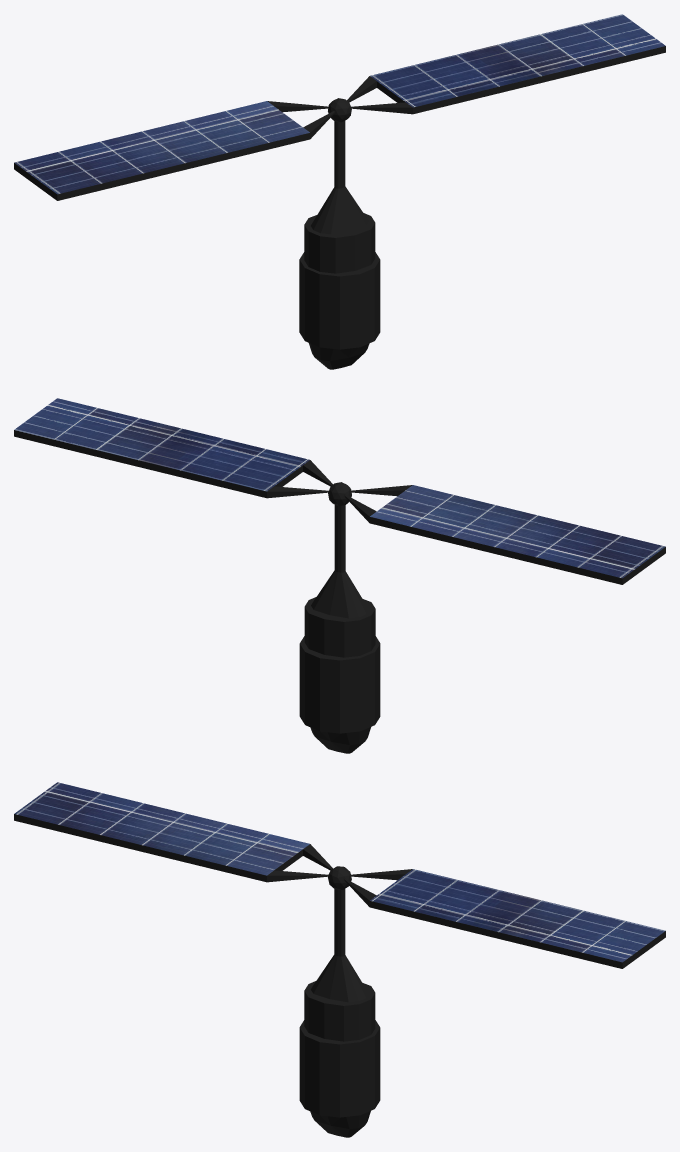
The model's file is satelita.dae.
3 views of the same model, one above another, from view 1: azimuth 30°, elevation 25°; view 2: azimuth 150°, elevation 25°; view 3: azimuth 330°, elevation 25° (orthographic).
Visible parts, largest first — view 1: Cylinder; view 2: Cylinder; view 3: Cylinder.
Part boxes in pixels (box(x1,y1,x2,y2)): Cylinder: box(14, 14, 665, 369); Cylinder: box(14, 398, 665, 753); Cylinder: box(14, 782, 665, 1137).
Bounding box in the file's own units: 17.41 × 2.15 × 7.29.
Materials: 2 (1 with a texture image).
